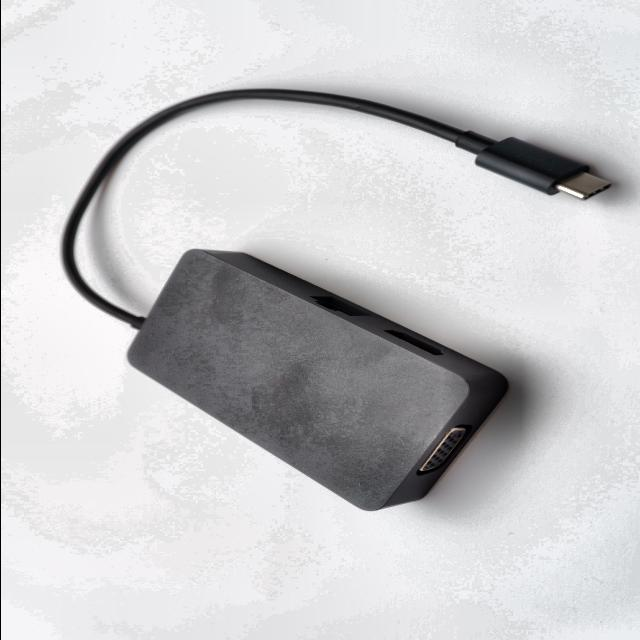Power bank: (61, 89, 607, 511)
